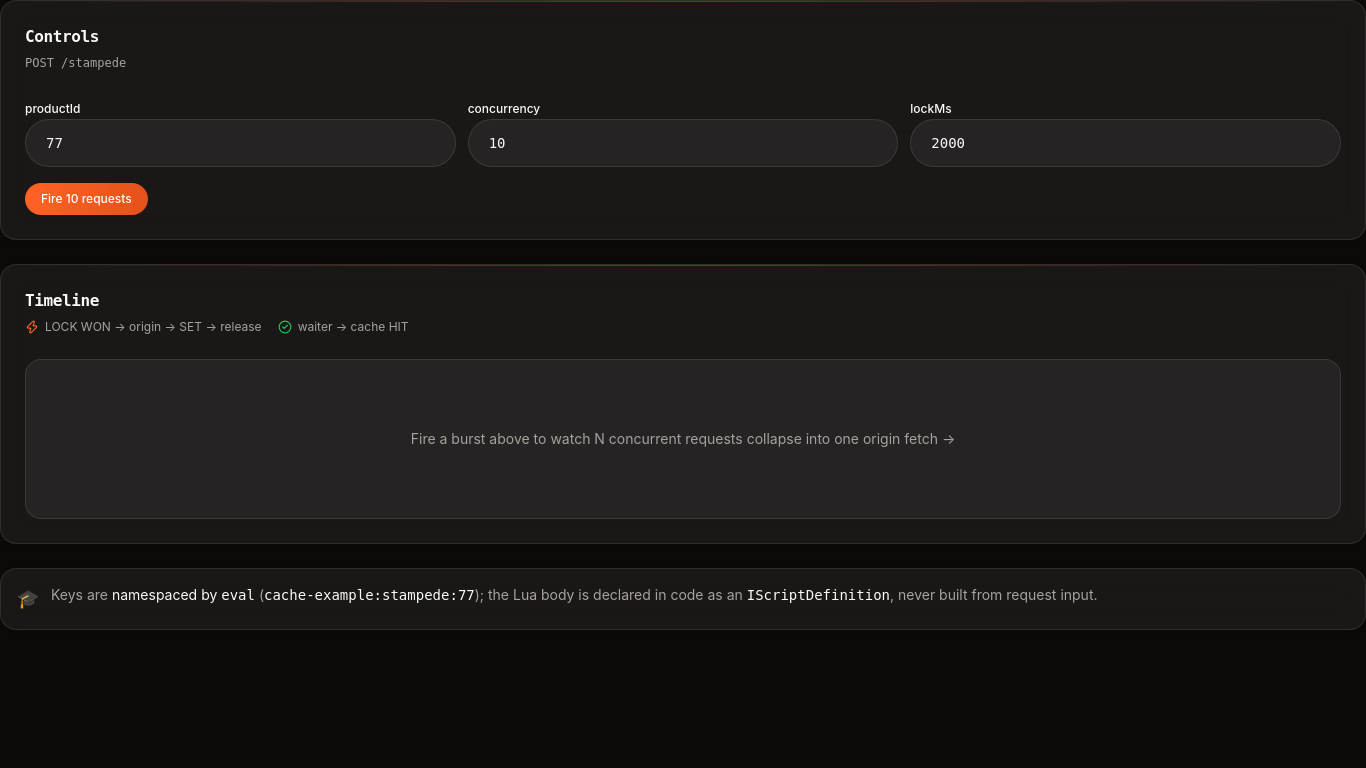
StampedeView › shows the Firing label and the skeleton while a burst is in flight
Click the button "Fire 10 requests" at (86, 199), box [25,183,148,215]
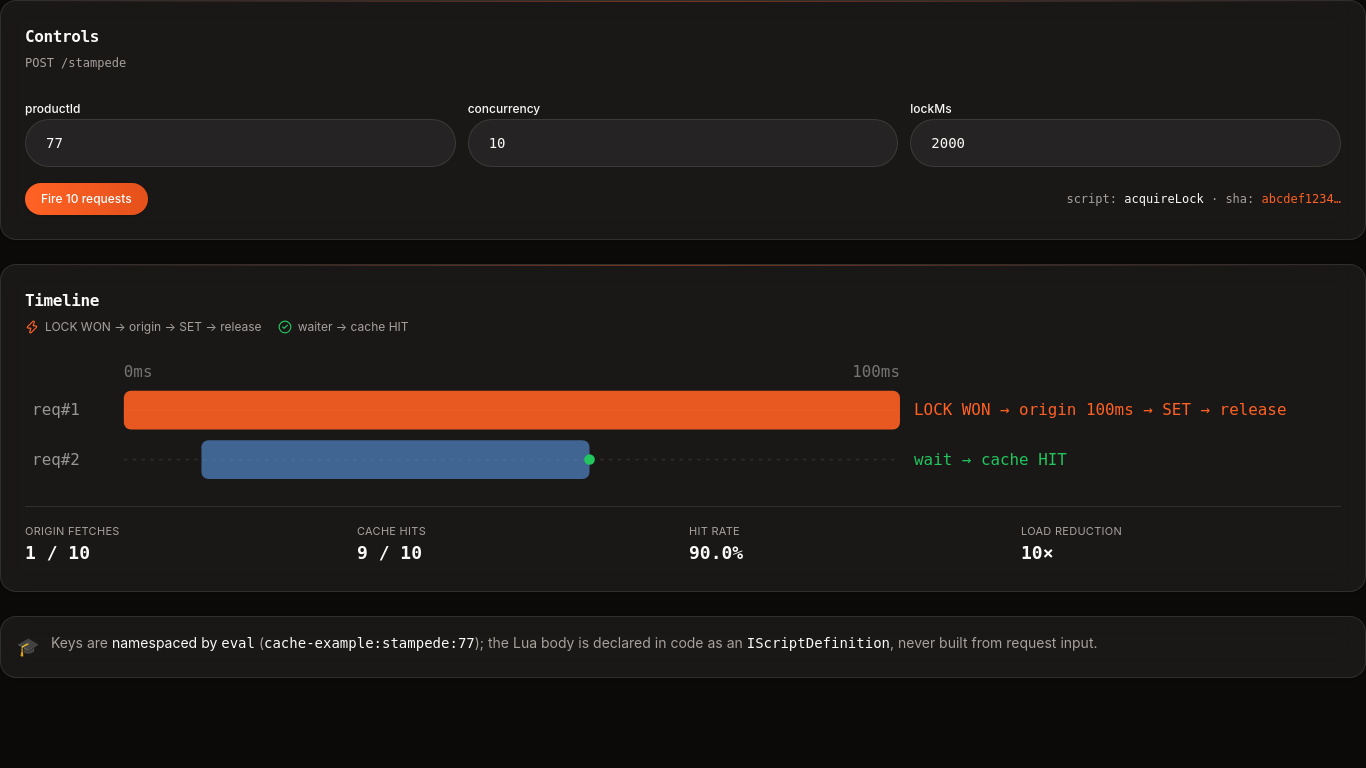
Expected: the text "Fire a burst above" is gone
Expected: the text "hit rate" is shown, [689,524,740,538]
